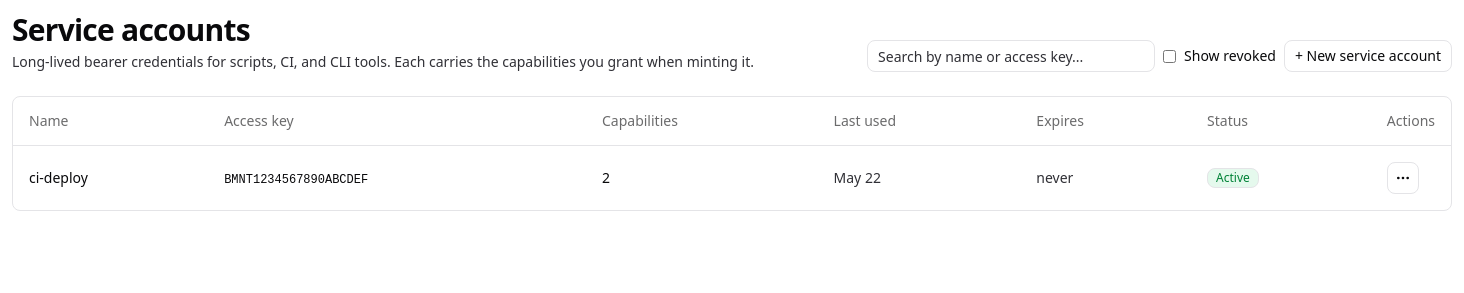
Test: ServiceAccountsPage › renders one row per service account with the per-row actions visible
expect the row with test id "sa-row-sa-1" is shown: met, box [13,145,1451,210]
expect the link "ci-deploy" is shown: met, box [29,168,88,186]
Click the checkbox with test id "show-revoked-toggle" at coordinates (1170, 56), box [1163,50,1176,62]
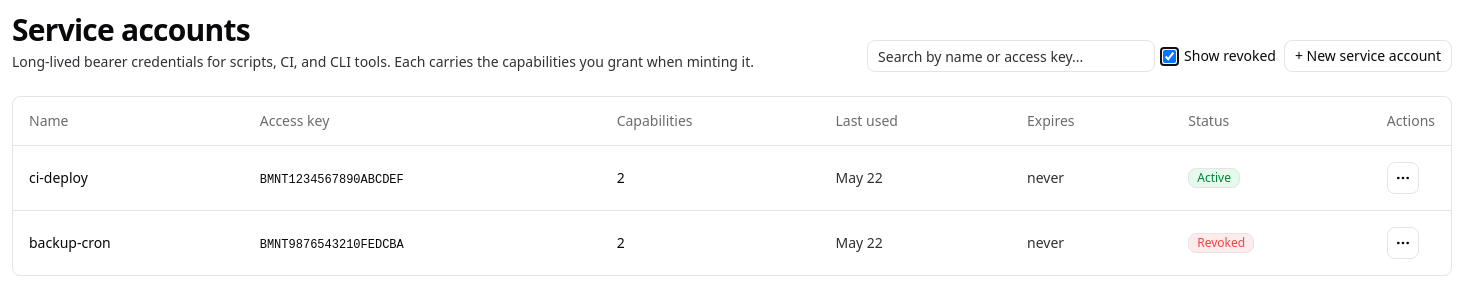
expect the row with test id "sa-row-sa-2" is shown: met, box [13,210,1451,274]
expect the link "backup-cron" is shown: met, box [29,232,111,252]
expect the text "Revoked" is shown: met, box [1188,233,1254,253]
